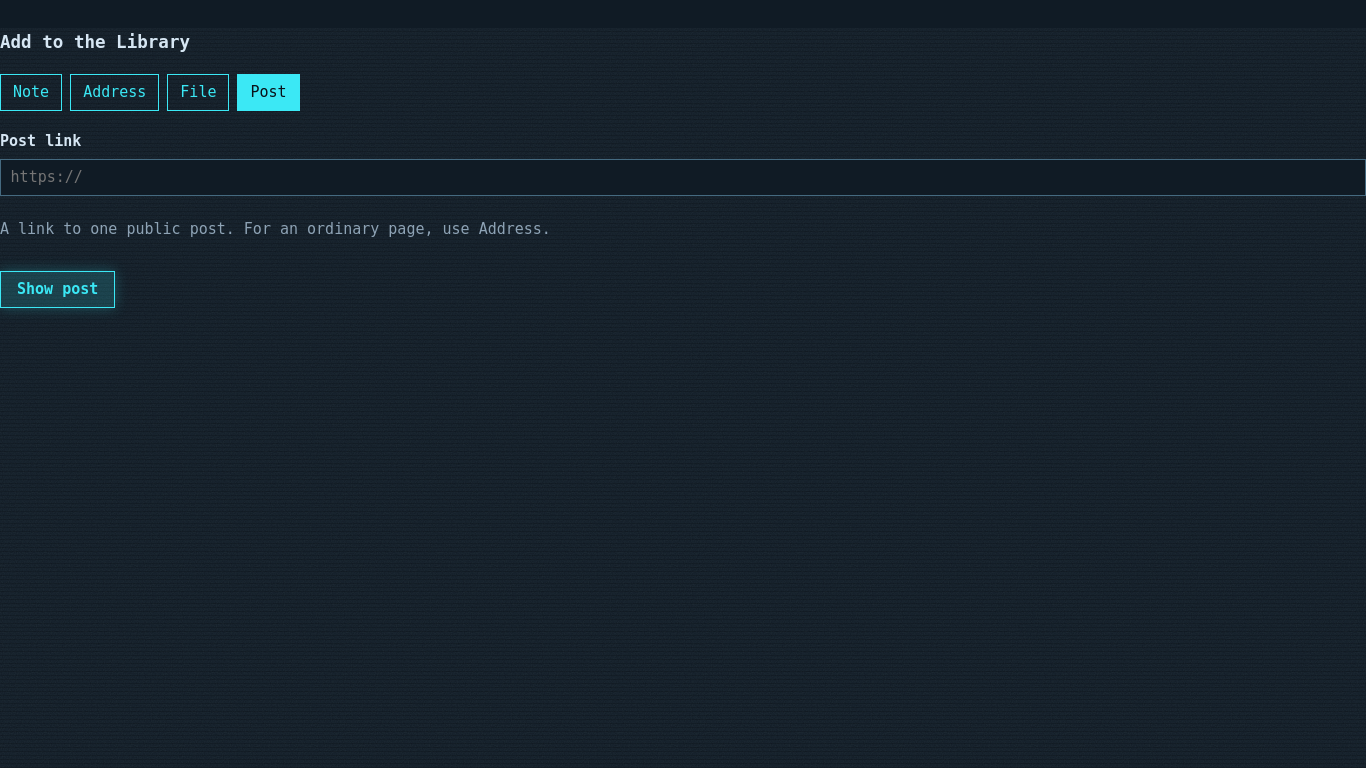
Test: the Post way of adding › keeps what was typed in the other ways while the post is being looked at
Click the button "Note" at (31, 92), box [0,74,62,111]
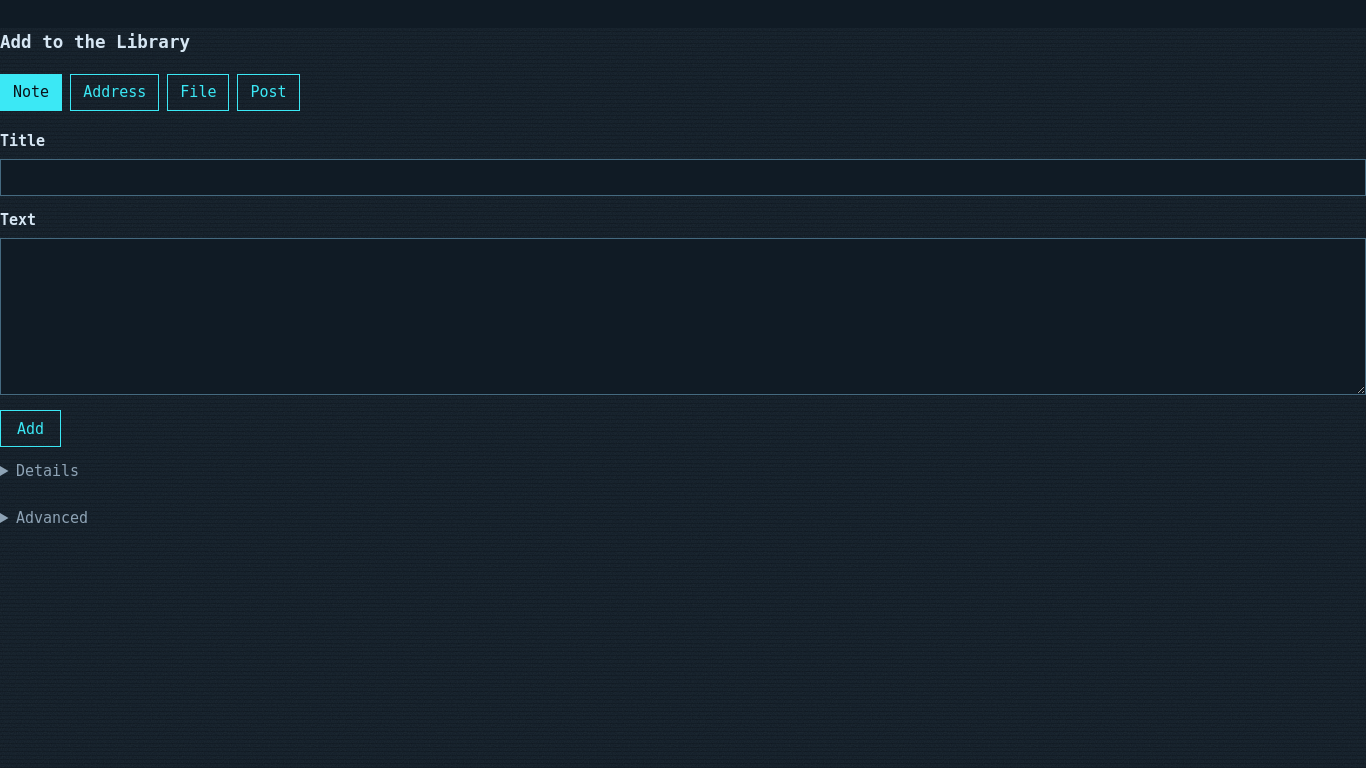
Type "A thought" into the field labelled "Title" at (683, 177), box [0,159,1365,196]
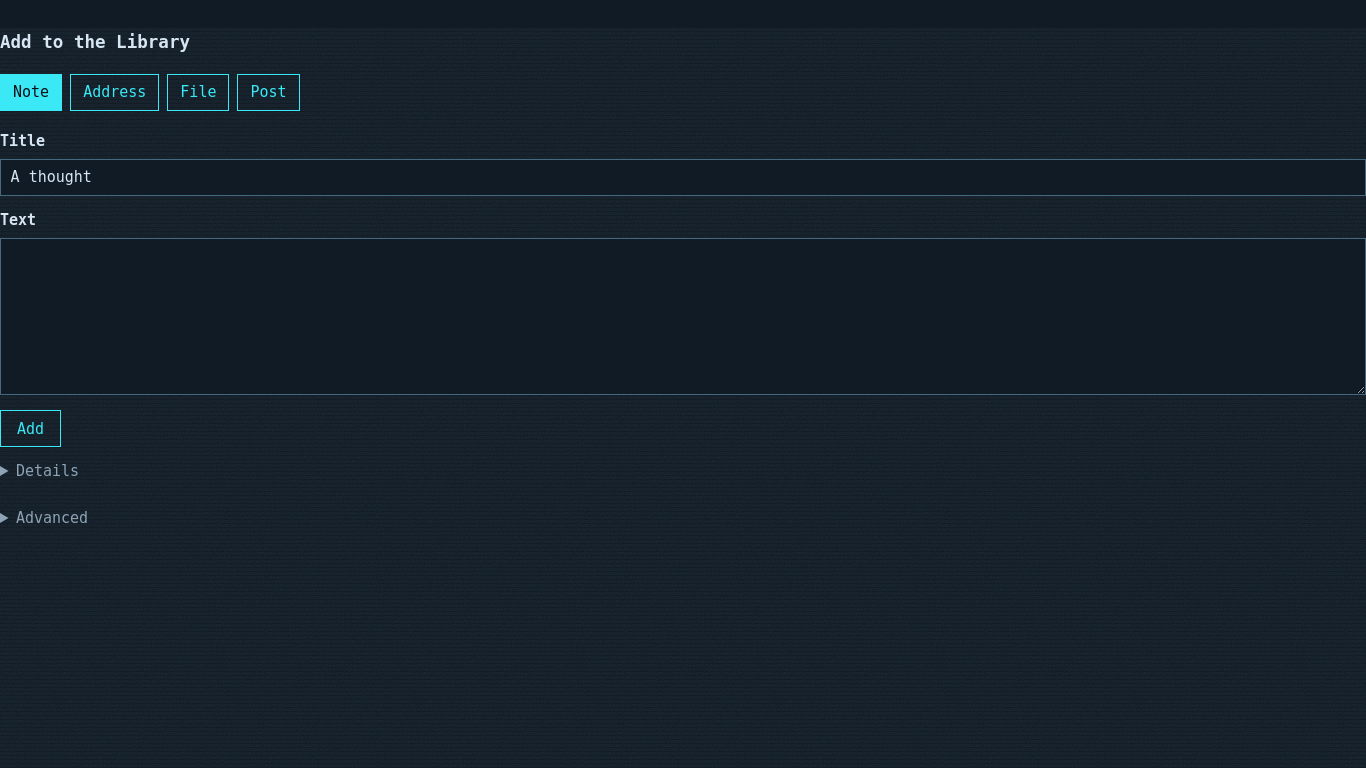
Click the button "Post" at (269, 92), box [238,74,300,111]
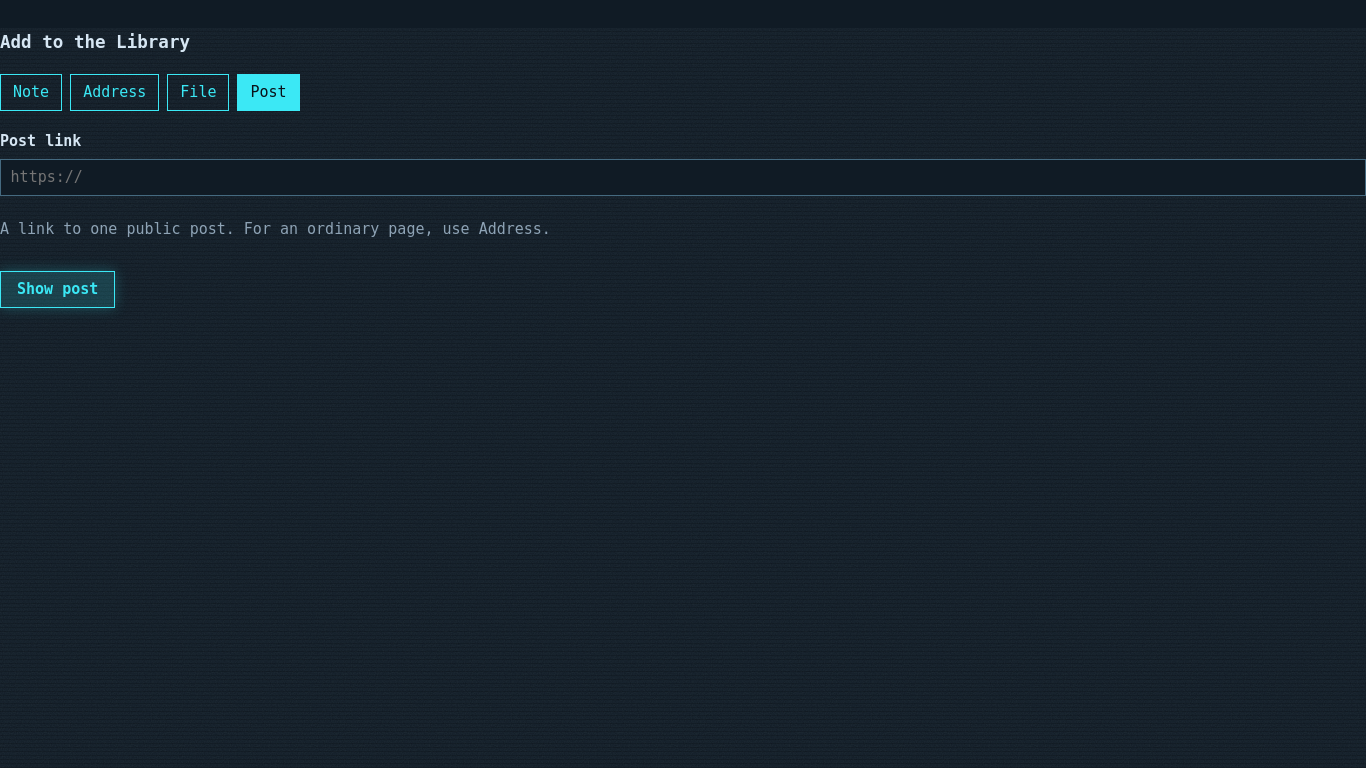
Click the button "Note" at (31, 92), box [0,74,62,111]
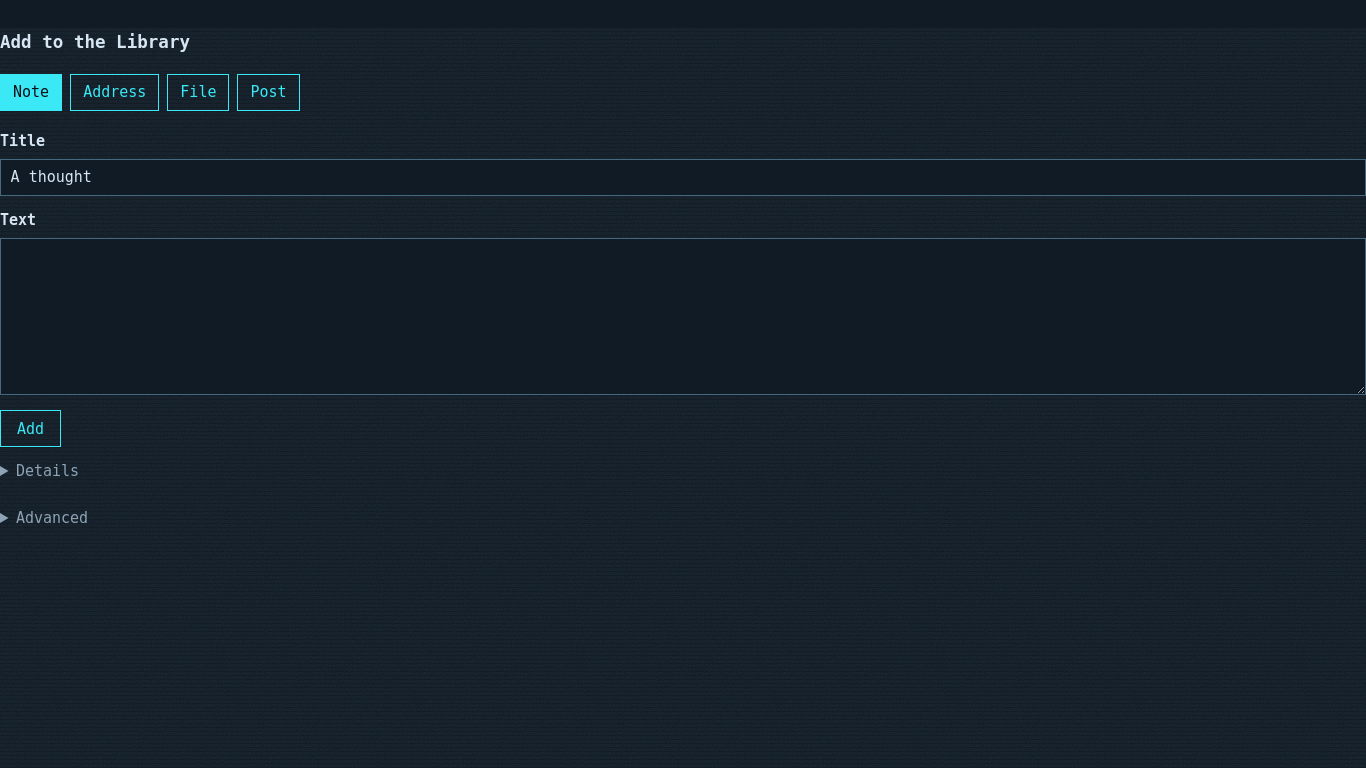
expect the field labelled "Title" holds "A thought": met, box [0,159,1365,196]
